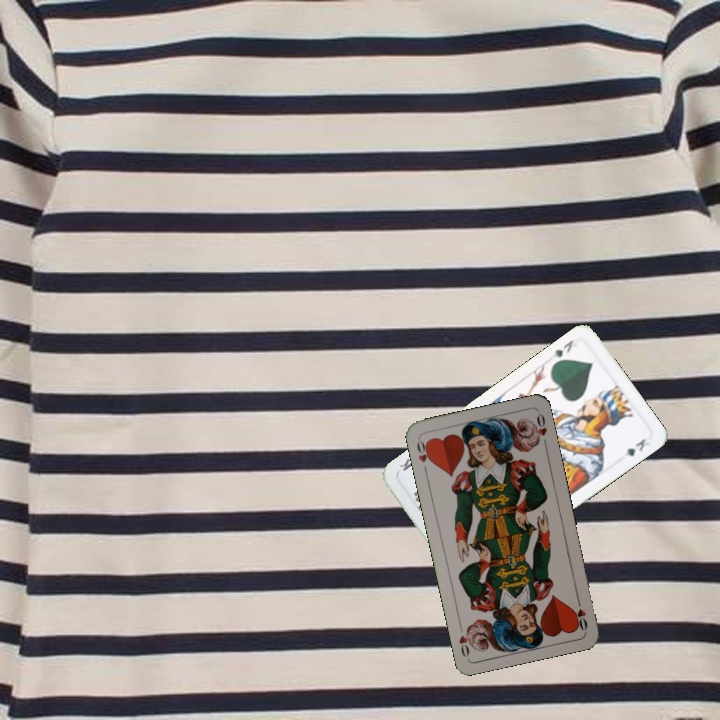GK: (548, 336, 579, 361)
HO: (413, 435, 434, 475), (571, 593, 590, 634)
